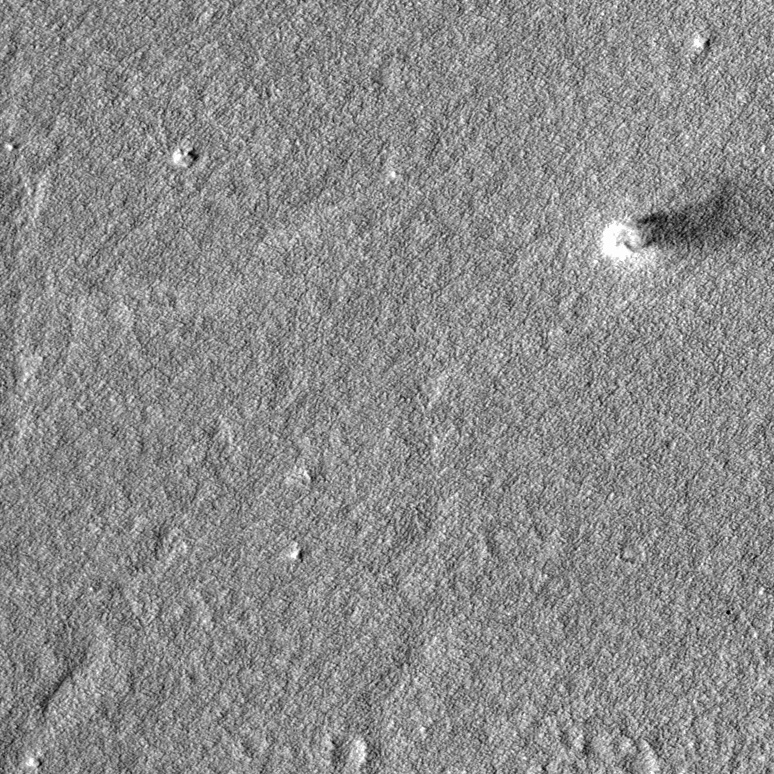dust_devil: (599, 188, 740, 266)
